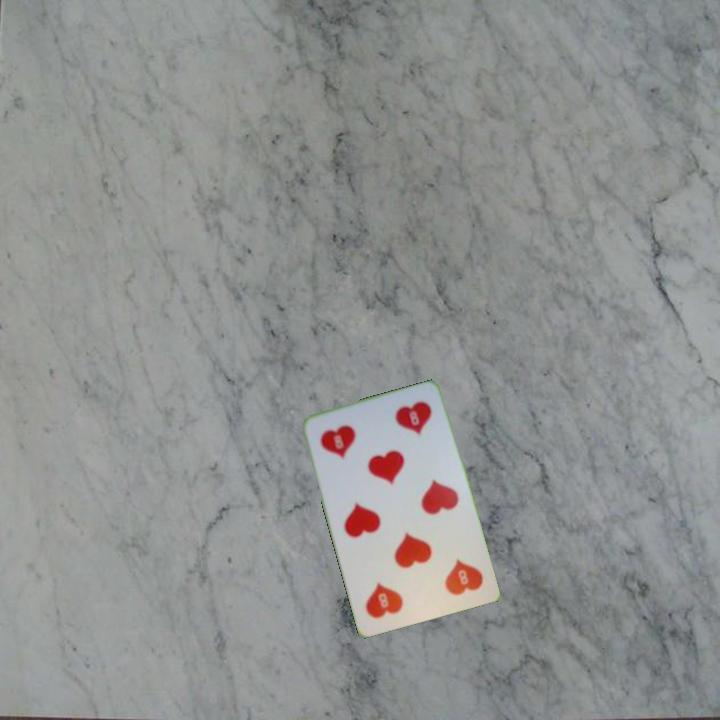h_8.png: (310, 406, 389, 479), (410, 538, 489, 610)
